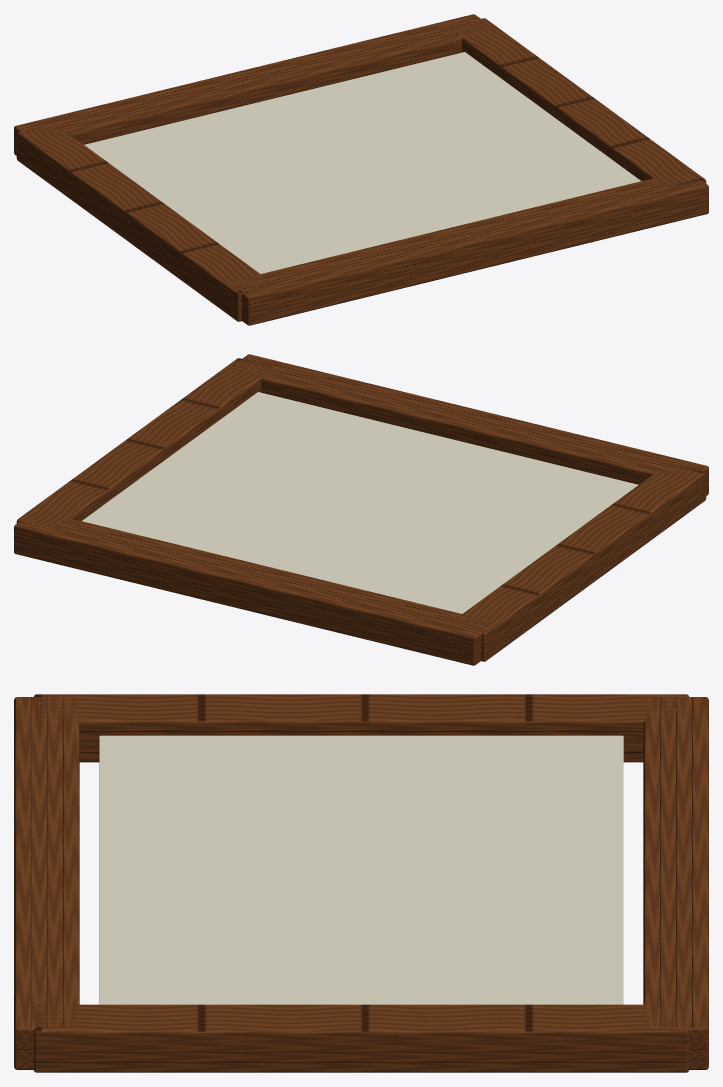
Rendered from survival-food-and-preservation-cheesecloth-frame-28823249__21795.glb.
The picture shows the model from 3 angles, top to bottom: view 1: azimuth 30°, elevation 25°; view 2: azimuth 150°, elevation 25°; view 3: azimuth 270°, elevation 25°; orthographic projection. The views are drawn at different scales.
Parts seen in each view (by area): view 1: cheesecloth-frame; view 2: cheesecloth-frame; view 3: cheesecloth-frame.
Boxes of the visible parts, box(x1,y1,x2,y2) form: cheesecloth-frame: box(14, 14, 708, 325); cheesecloth-frame: box(14, 354, 708, 665); cheesecloth-frame: box(14, 694, 708, 1072).
Size of the model in its own units: 0.305 by 0.018 by 0.265.
Materials: 2 (1 with a texture image).
